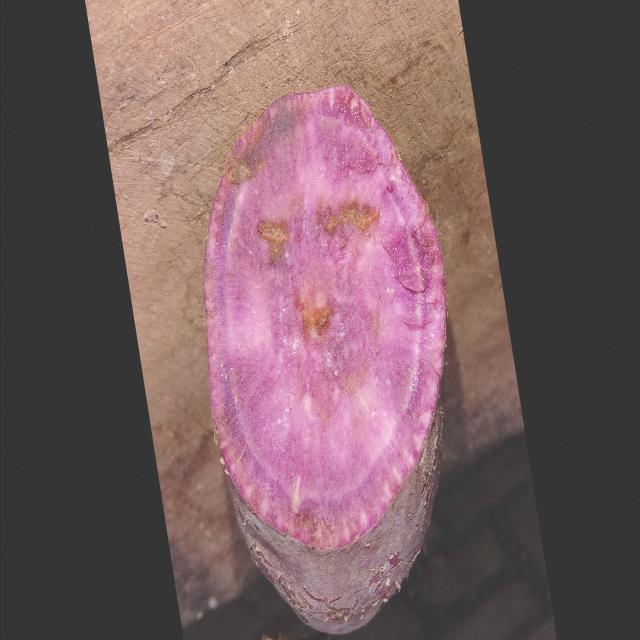Sick Sweet Potato_Tuber Rot: (204, 87, 445, 549)
